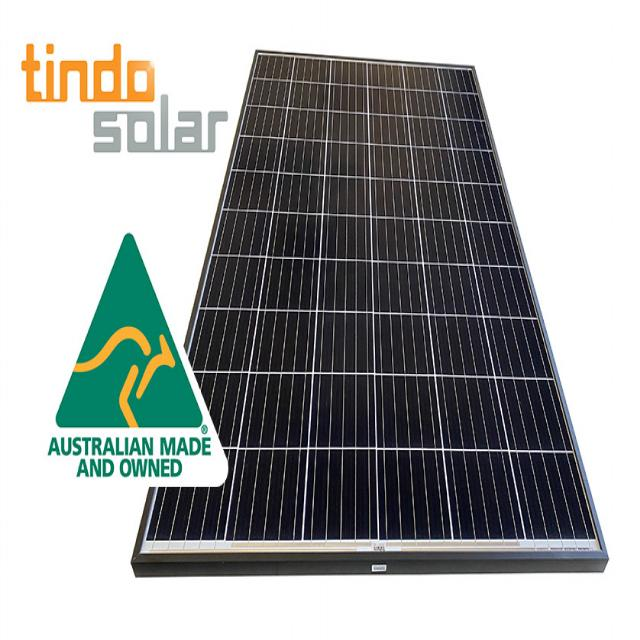no faulty: (142, 56, 594, 551)
